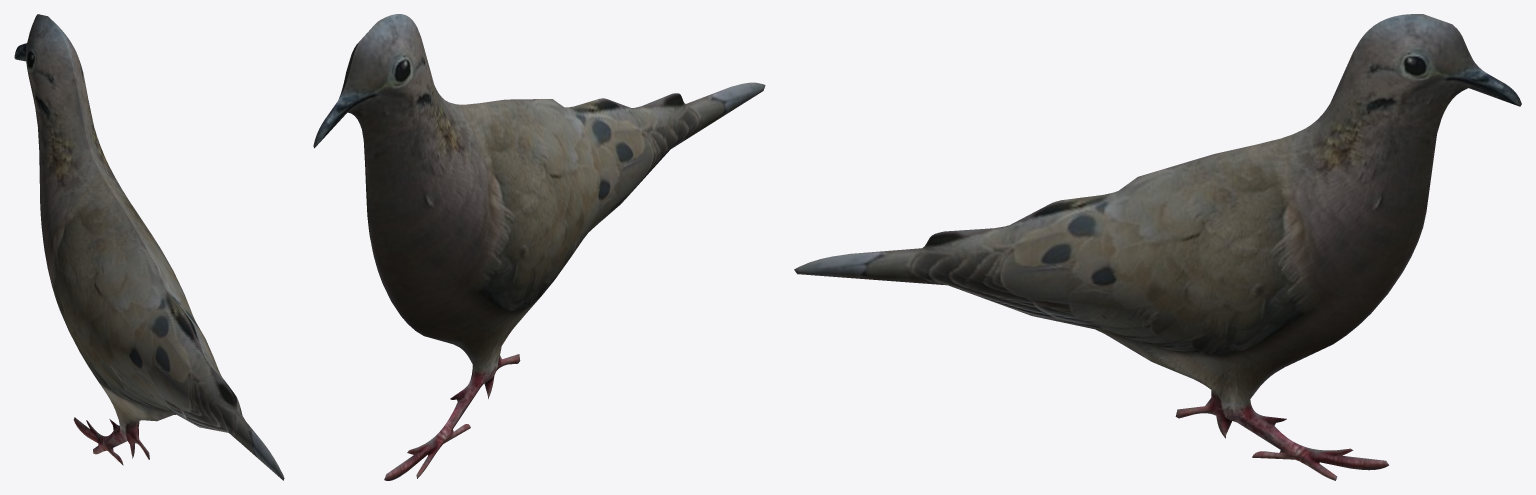
The model's file is Eared_dove_Zenaida_auriculata_Oliv0106_2-removebg-preview.gltf.
The picture shows the model from 3 angles, left to right: view 1: azimuth 30°, elevation 25°; view 2: azimuth 150°, elevation 25°; view 3: azimuth 270°, elevation 25°; orthographic projection. The views are drawn at different scales.
Visible parts, largest first — view 1: node1; view 2: node1; view 3: node1.
Part boxes in pixels (x1=…): node1: x1=14, y1=14, x2=284, y2=480; node1: x1=313, y1=14, x2=765, y2=480; node1: x1=794, y1=14, x2=1521, y2=480.
Bounding box in the file's own units: 0.2098 × 0.8387 × 1.19.
Materials: 1 (1 with a texture image).
